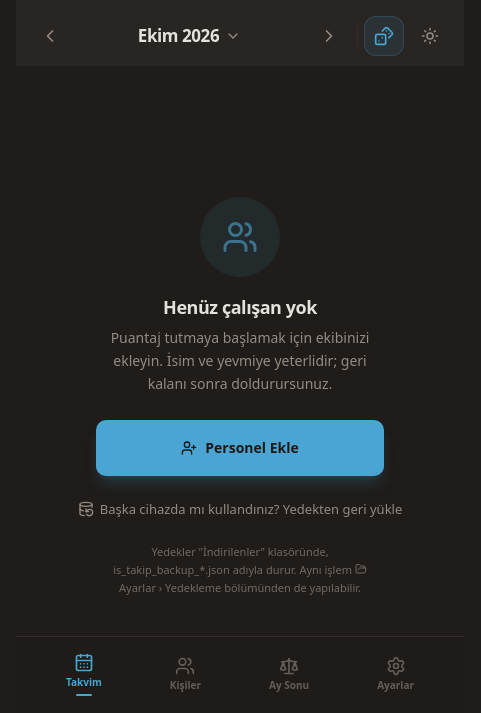
Scenario: İlk açılış — boş durum › boş takvimde ekibin nereye ekleneceğini doğrudan gösterir
This screenshot has width=481, height=713.
Expected: the element named "Başlangıç" is shown, [78, 197, 402, 595]
Note: Düğme yalnızca yönlendirme metni değil: Kişiler ekranına geçmeli.
Click the button "Personel Ekle".
click(240, 448)  # box [96, 420, 384, 476]
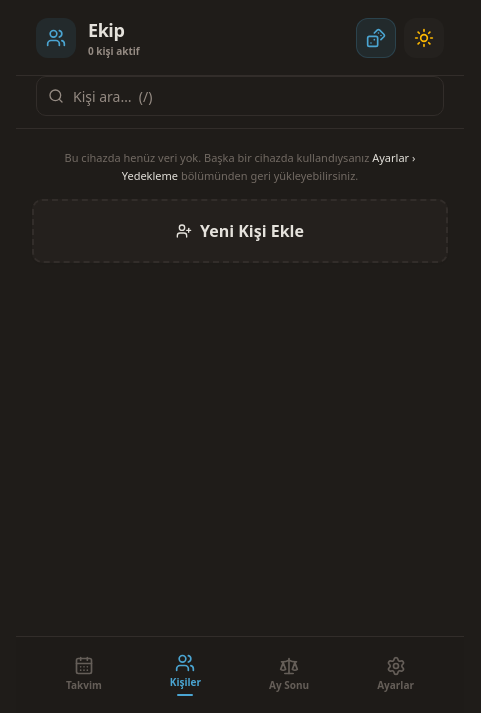
Now the heading "Ekip" is shown, box [88, 18, 124, 42]
